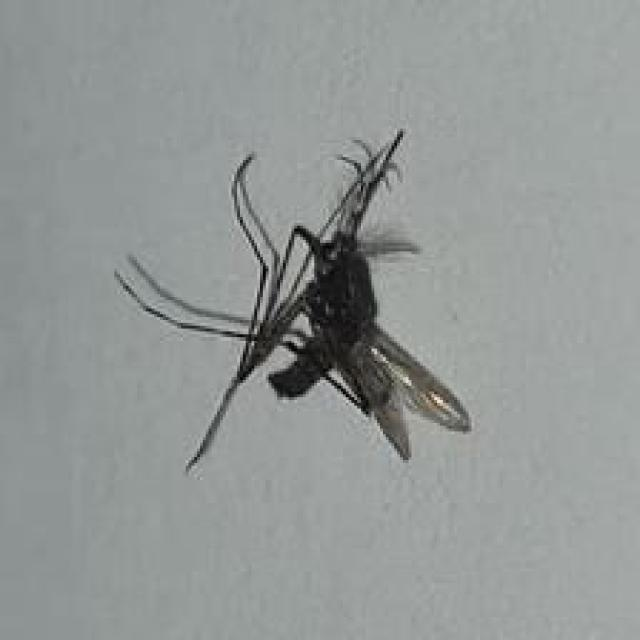Aedes albopictus: (113, 126, 473, 474)
